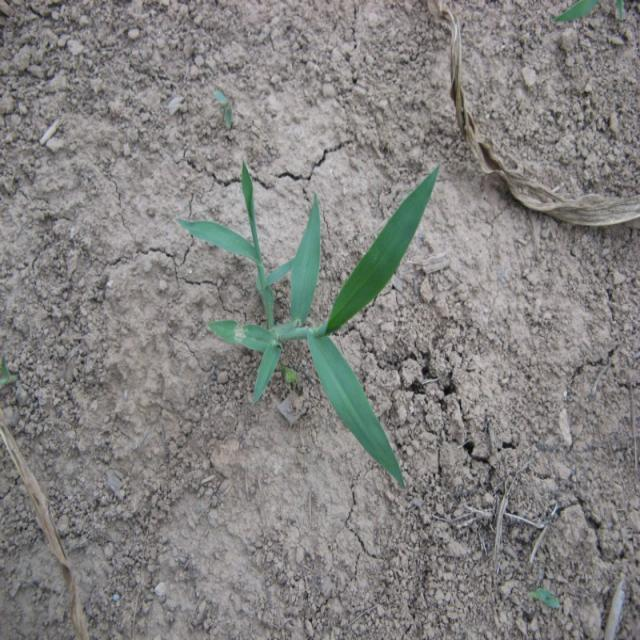bg: (176, 156, 437, 487)
